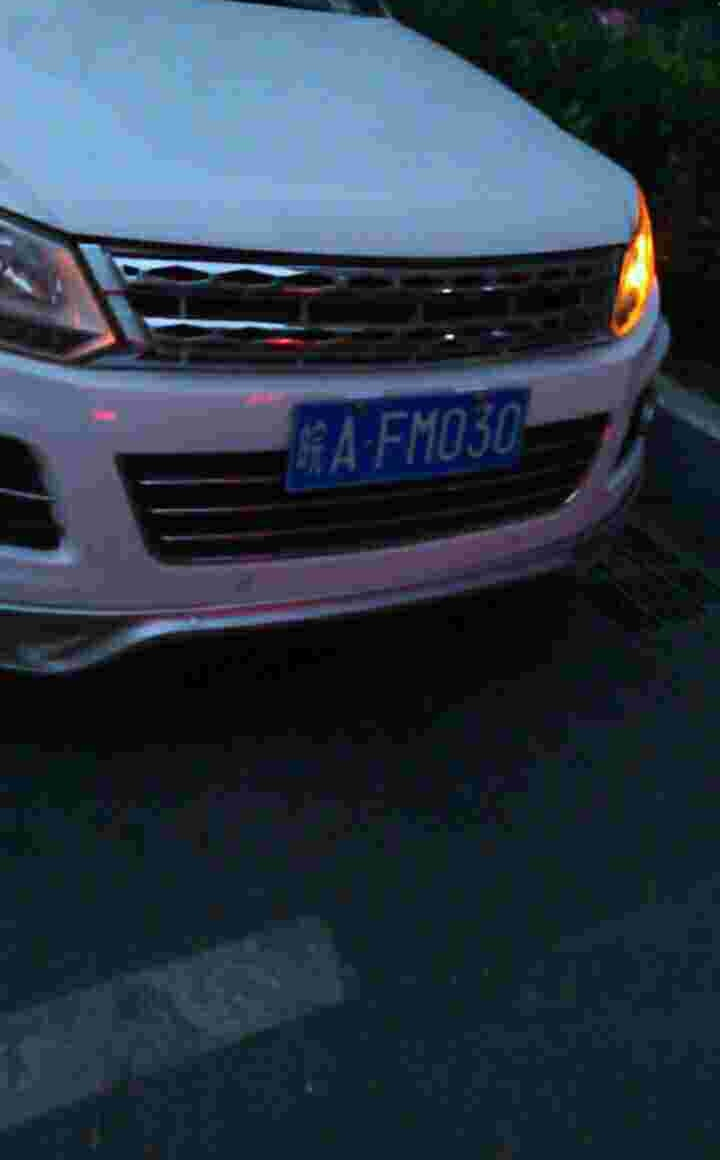license_plate: (273, 382, 544, 493)
